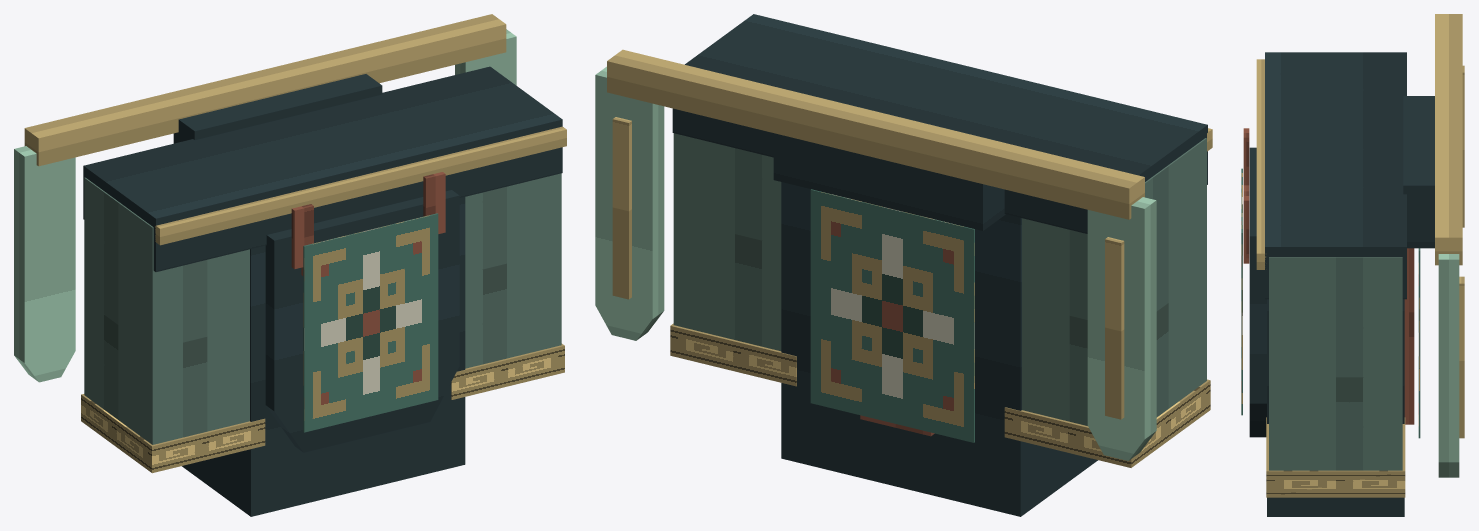
The model's file is huashen_xuanji_chestplate.obj.
The picture shows the model from 3 angles, left to right: view 1: azimuth 30°, elevation 25°; view 2: azimuth 150°, elevation 25°; view 3: azimuth 270°, elevation 25°; orthographic projection. The views are drawn at different scales.
Visible parts, largest first — view 1: imperial_yoke, court_sleeve_-1, orn_chest_seal, imperial_body, balance_beam, court_sleeve_1, imperial_plastron, suspended_tablet_-1, yoke_front_edge, court_cuff_-1, balance_root, court_cuff_1 (+3 smaller); view 2: imperial_yoke, orn_back, imperial_body, court_sleeve_-1, balance_beam, court_sleeve_1, suspended_tablet_-1, suspended_tablet_1, balance_root, court_cuff_-1, court_cuff_1, tablet_gold_axis_1 (+1 smaller); view 3: imperial_yoke, court_sleeve_1, balance_beam, suspended_tablet_1, balance_root, court_cuff_1, imperial_plastron, imperial_body, yoke_front_edge, back_red_axis, tablet_gold_axis_1, orn_back (+4 smaller).
Part boxes in pixels (bbox=[...]): imperial_yoke: bbox=[83, 66, 562, 271]; court_sleeve_-1: bbox=[84, 177, 249, 444]; orn_chest_seal: bbox=[303, 213, 438, 432]; imperial_body: bbox=[182, 197, 465, 516]; balance_beam: bbox=[24, 14, 506, 166]; court_sleeve_1: bbox=[465, 173, 561, 368]; imperial_plastron: bbox=[265, 190, 459, 452]; suspended_tablet_-1: bbox=[14, 146, 75, 382]; yoke_front_edge: bbox=[155, 126, 566, 245]; court_cuff_-1: bbox=[81, 394, 265, 473]; balance_root: bbox=[173, 74, 382, 143]; court_cuff_1: bbox=[451, 343, 564, 399]; imperial_yoke: bbox=[672, 14, 1207, 233]; orn_back: bbox=[810, 189, 974, 442]; imperial_body: bbox=[781, 182, 1097, 516]; court_sleeve_-1: bbox=[1022, 138, 1206, 425]; balance_beam: bbox=[607, 49, 1144, 219]; court_sleeve_1: bbox=[673, 133, 781, 351]; suspended_tablet_-1: bbox=[1087, 197, 1156, 460]; suspended_tablet_1: bbox=[595, 66, 664, 340]; balance_root: bbox=[773, 91, 1006, 230]; court_cuff_-1: bbox=[1004, 379, 1210, 467]; court_cuff_1: bbox=[670, 323, 796, 386]; tablet_gold_axis_1: bbox=[612, 117, 631, 299]; imperial_yoke: bbox=[1265, 52, 1406, 299]; court_sleeve_1: bbox=[1269, 257, 1402, 470]; balance_beam: bbox=[1435, 14, 1462, 265]; suspended_tablet_1: bbox=[1438, 254, 1459, 477]; balance_root: bbox=[1403, 96, 1434, 248]; court_cuff_1: bbox=[1266, 417, 1405, 497]; imperial_plastron: bbox=[1249, 147, 1266, 437]; imperial_body: bbox=[1267, 299, 1404, 516]; yoke_front_edge: bbox=[1256, 59, 1265, 269]; back_red_axis: bbox=[1404, 248, 1414, 424]; tablet_gold_axis_1: bbox=[1459, 276, 1464, 438]; orn_back: bbox=[1418, 248, 1420, 438].
Bounding box in the file's own units: 1.26 × 0.85 × 0.5066.
